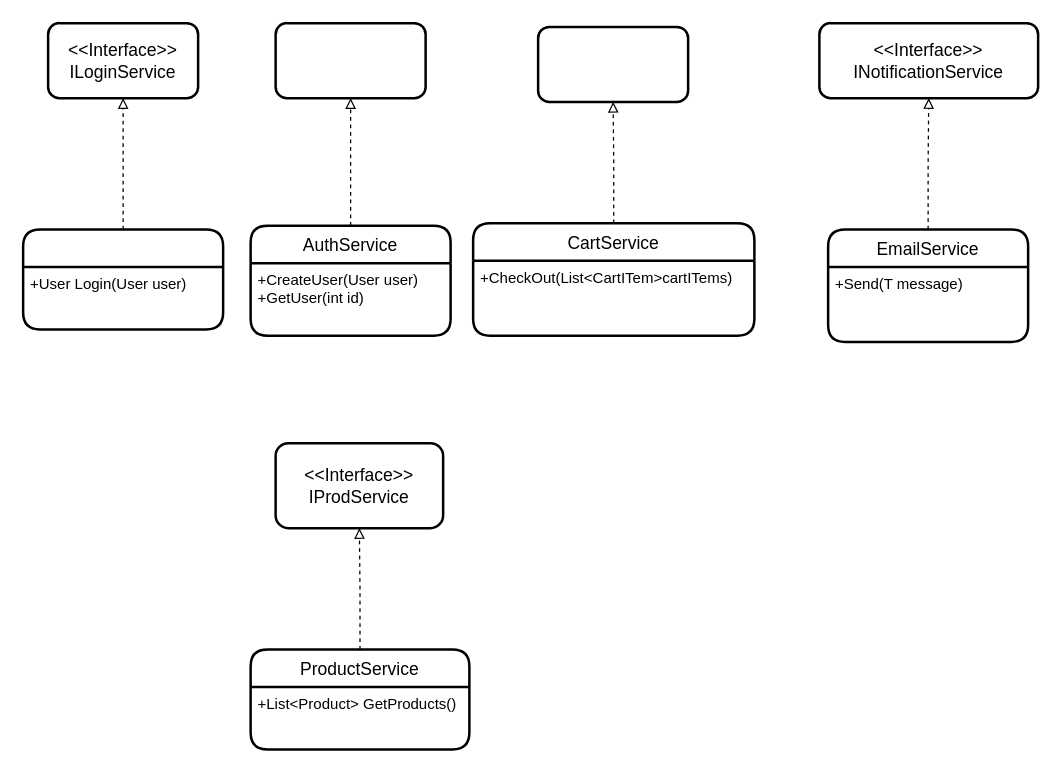
This 1060x771 diagram has some shape labels left out. Each missing label, with the box of its shape:
<<Interface>> IAuthService: (274, 21, 426, 99)
<<Interface>> ICartService: (536, 25, 689, 102)
LoginService: (21, 228, 224, 330)
